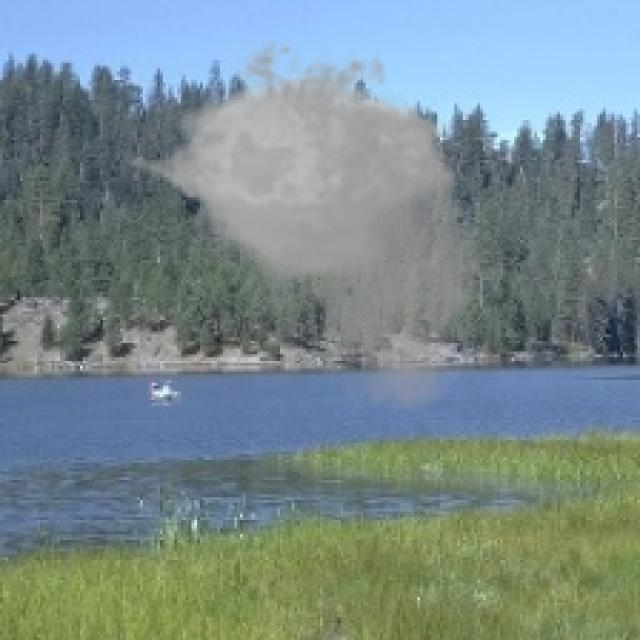smoke: (112, 29, 497, 417)
